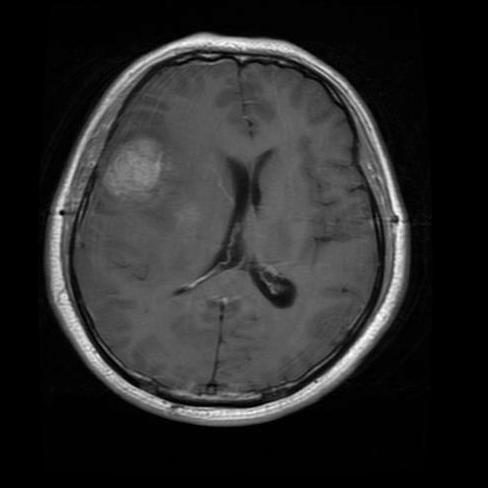Tumour-Pituitary: (92, 127, 182, 225)
